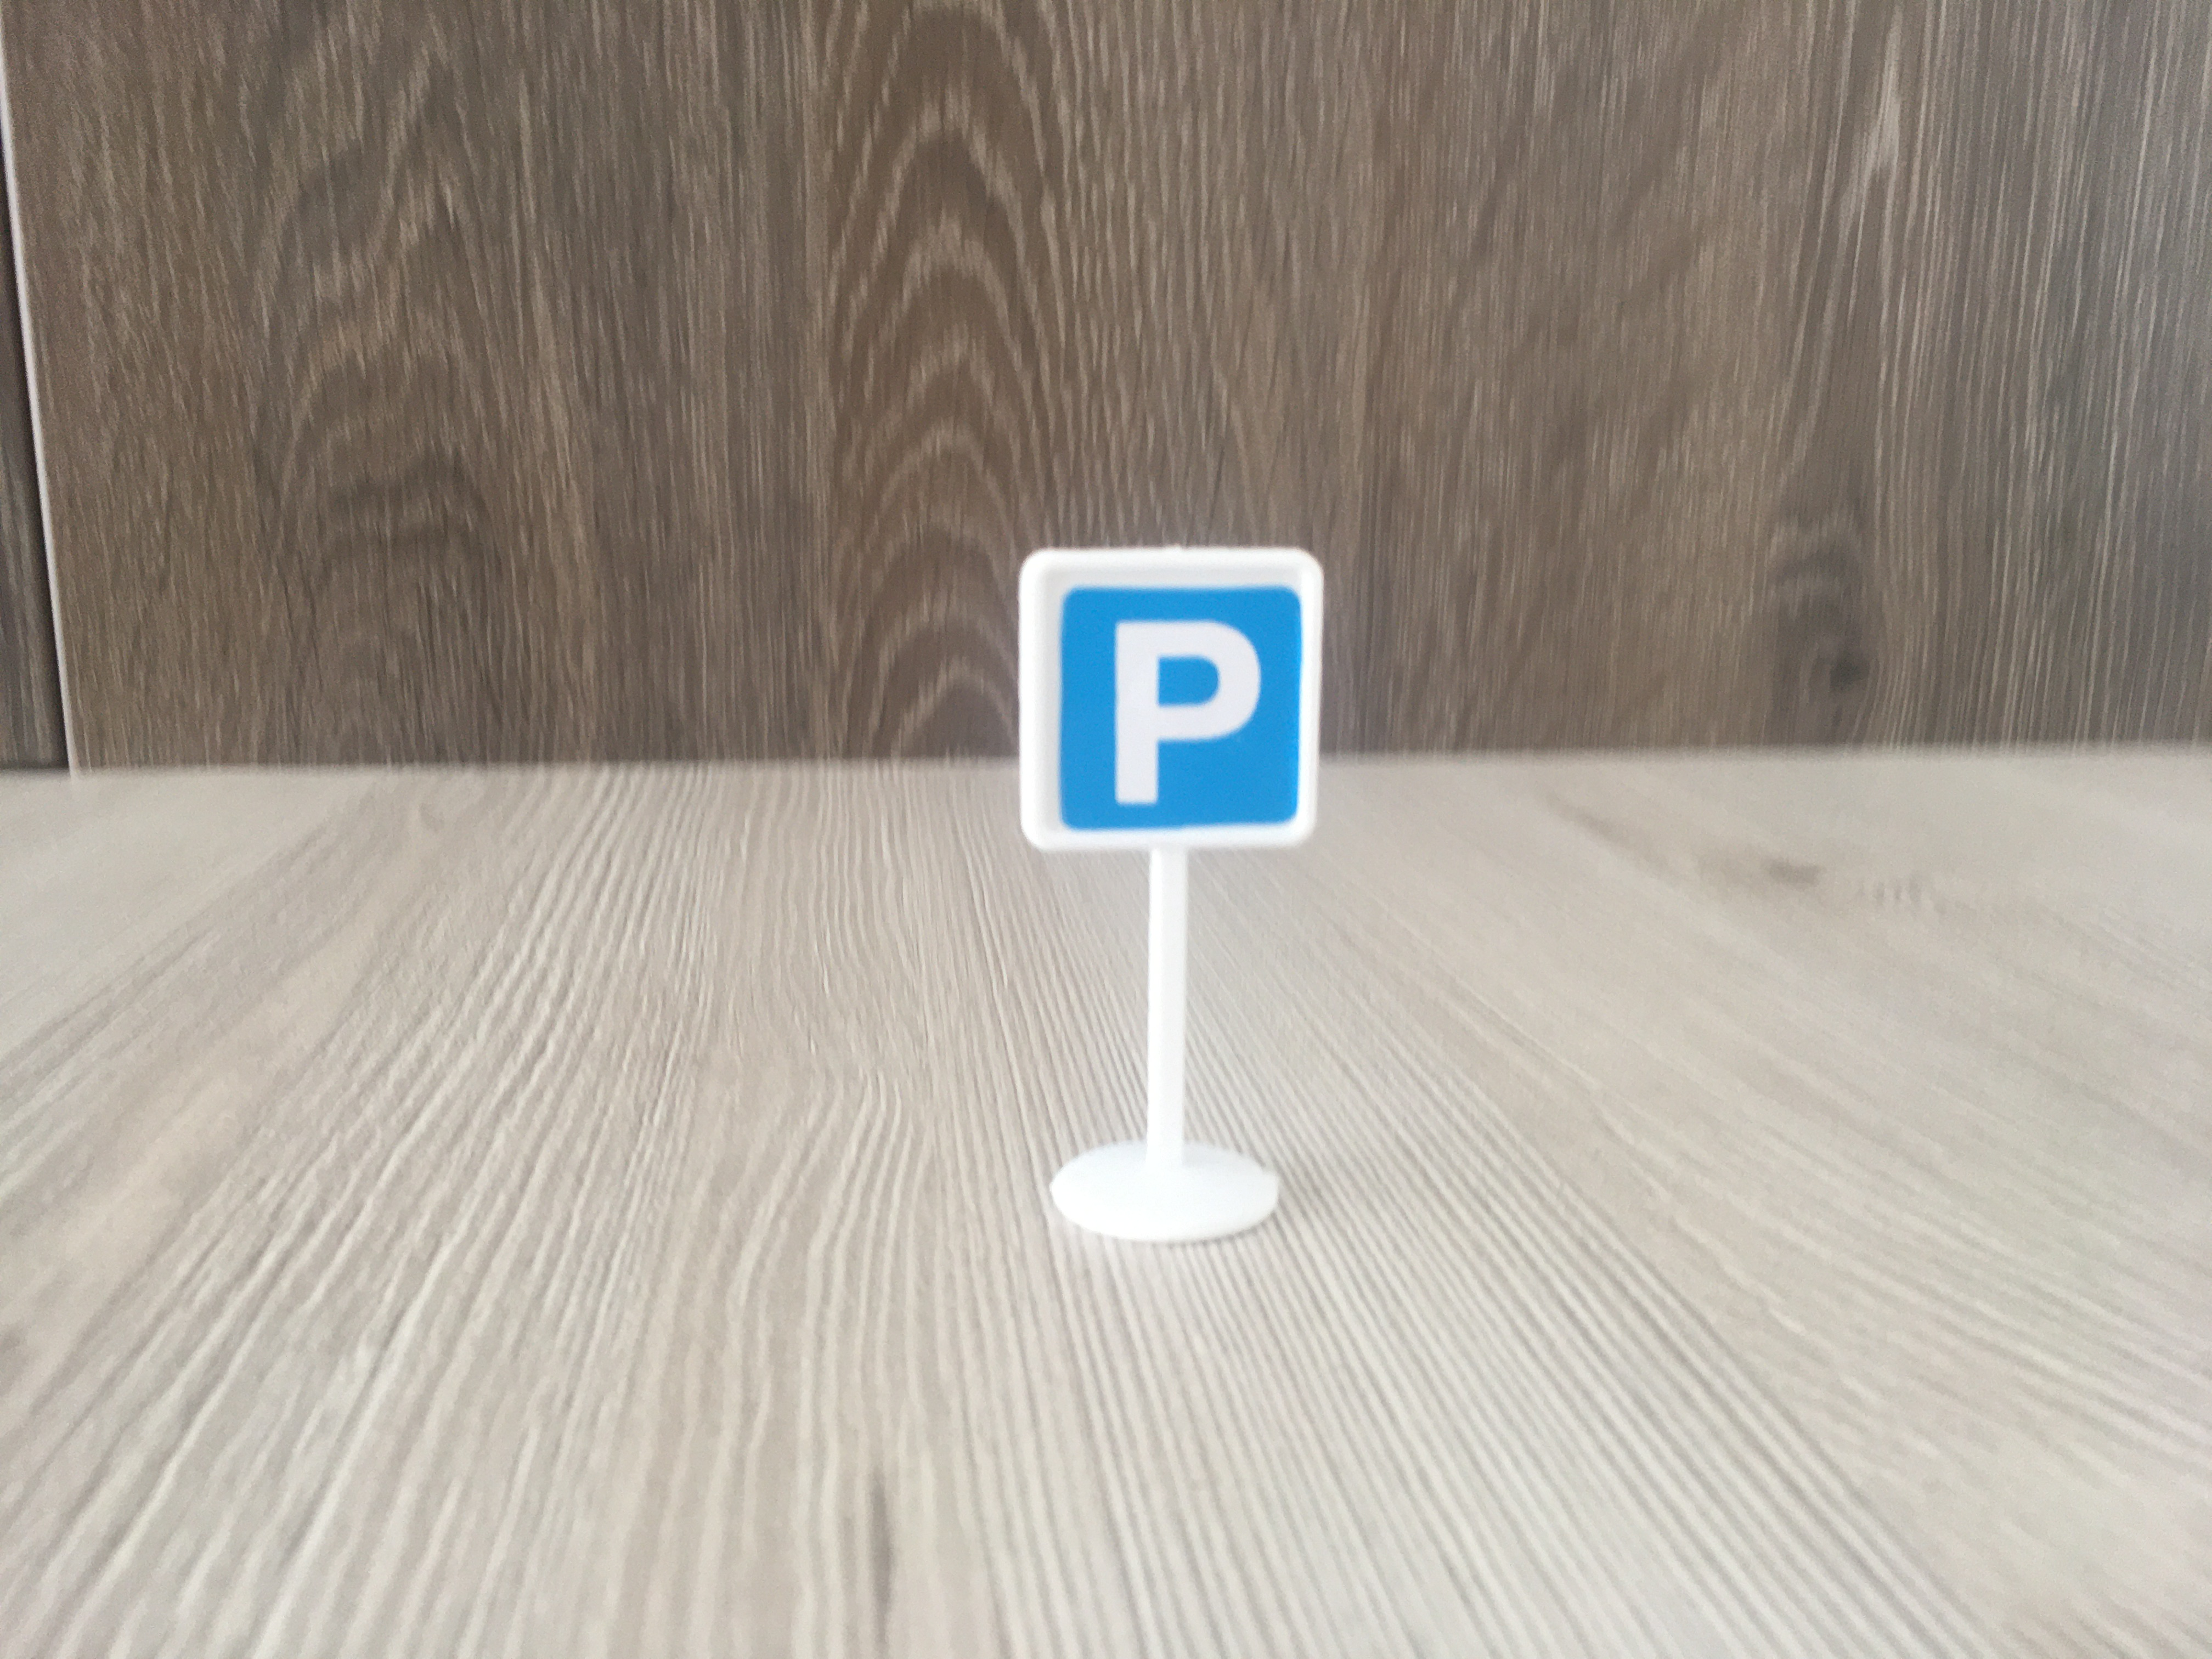parking: (1021, 554, 1324, 852)
